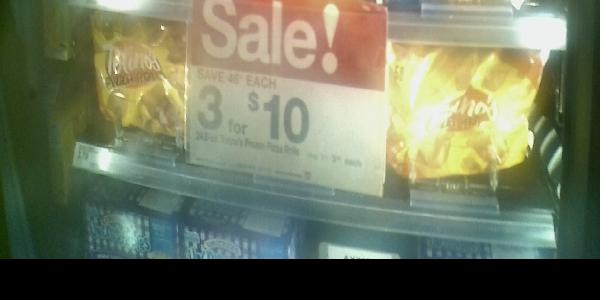icecream: (389, 43, 534, 194), (82, 9, 191, 159)
